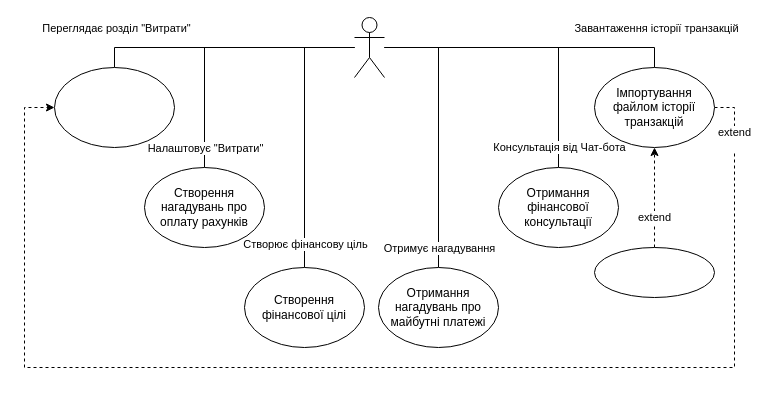
The diagram is 768 pixels wide and 393 high, and some of its shapes have lost their labels. Each missing label, with the box of its shape:
Student: (354, 16, 384, 78)
Аналіз фінансових витрат: (54, 66, 174, 148)
Редагування транзакції: (594, 246, 714, 298)
